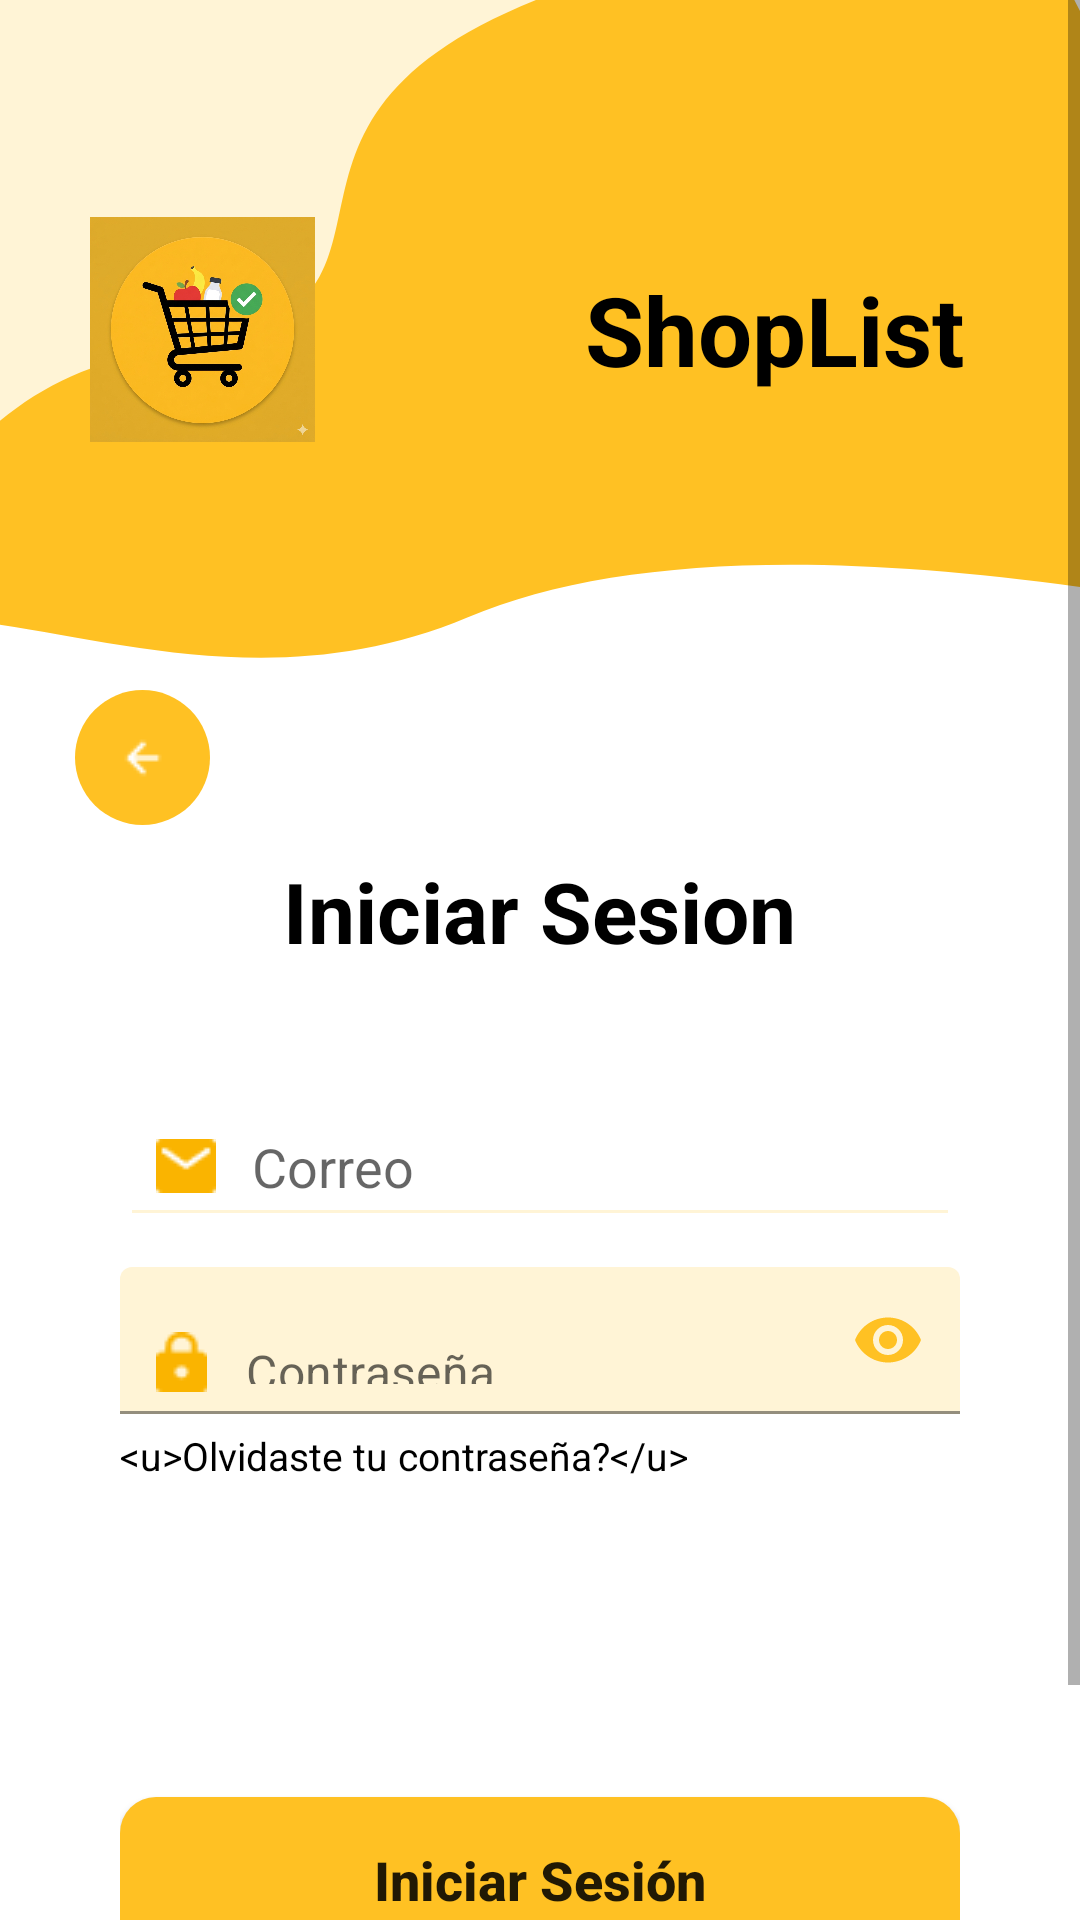

Icons on this 1080w x 1920h Android screen, each with the point to tap as point (x, y):
arrow left: point (142, 757)
